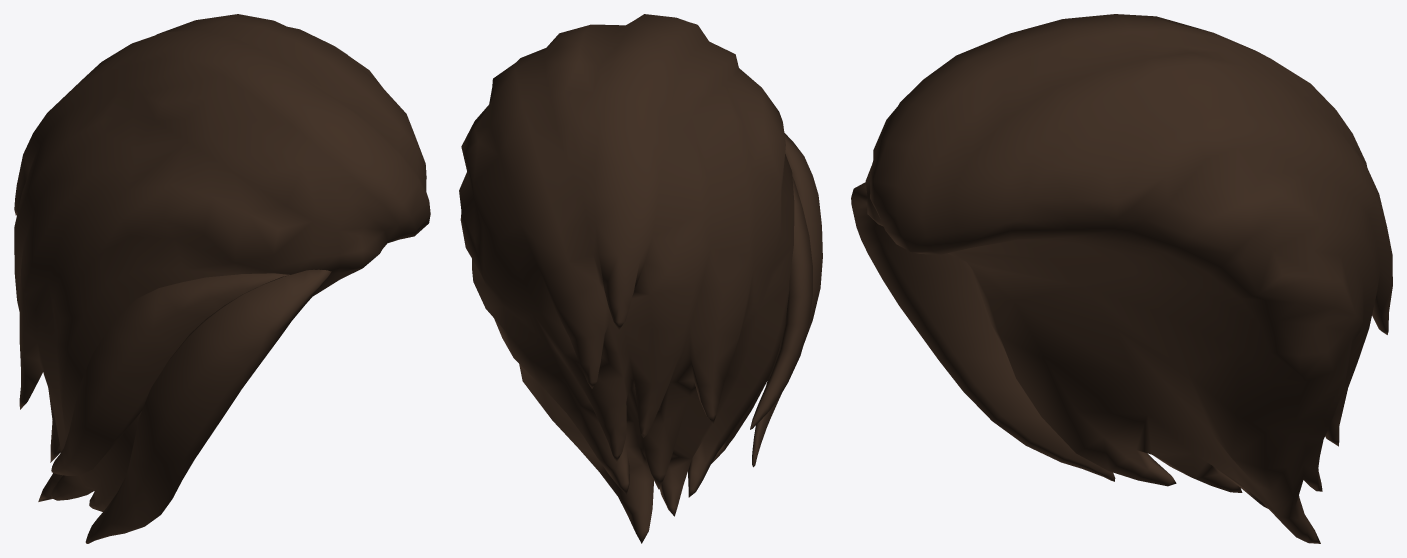
File: hair_w08.glb
3 renders of one model, left to right at view 1: azimuth 30°, elevation 25°; view 2: azimuth 150°, elevation 25°; view 3: azimuth 270°, elevation 25°, orthographic. The views are drawn at different scales.
Parts seen in each view (by area): view 1: hair_w08; view 2: hair_w08; view 3: hair_w08.
Boxes of the visible parts, x1=… form: hair_w08: x1=14, y1=14, x2=430, y2=543; hair_w08: x1=459, y1=14, x2=822, y2=543; hair_w08: x1=851, y1=14, x2=1392, y2=543.
Size of the model in its own units: 0.1549 by 0.2258 by 0.1931.
